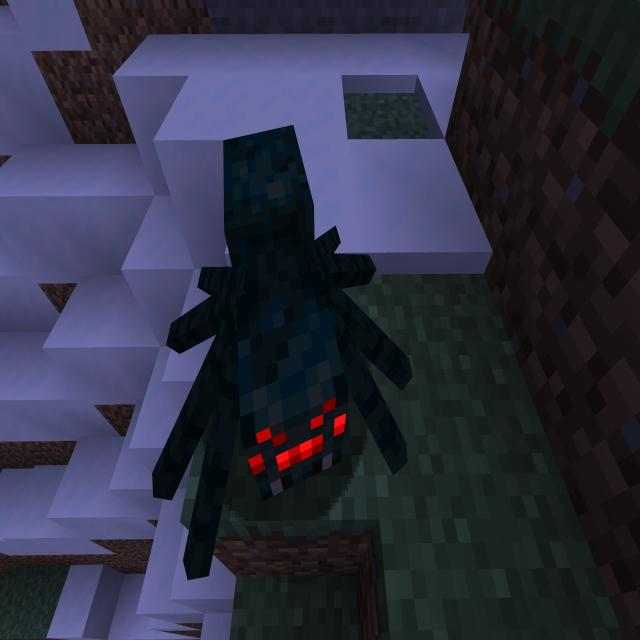Cave Spider: (150, 120, 415, 580)
